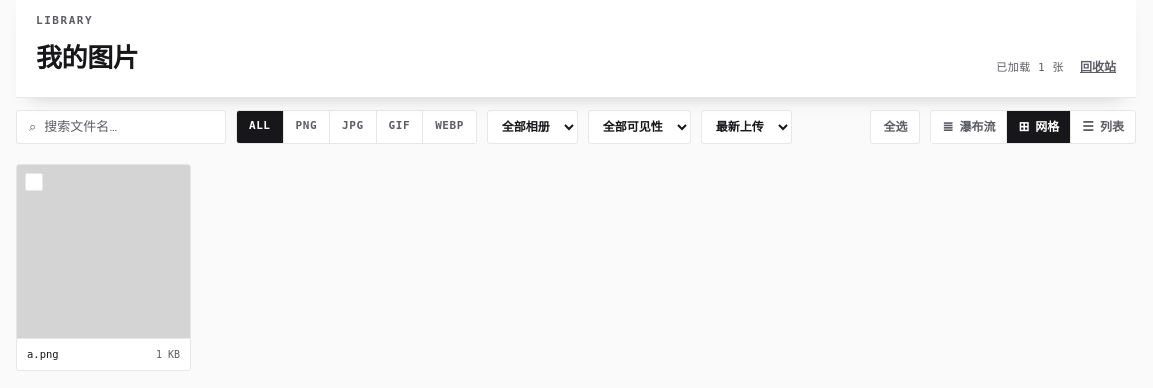
Scenario: 视图切换持久化 imgli-view
The width and height of the screenshot is (1153, 388).
Expected: the text "a.png" is shown, [27,348,59,360]
Click the button "☰ 列表": {"x": 1103, "y": 126} [1070,110,1135,142]
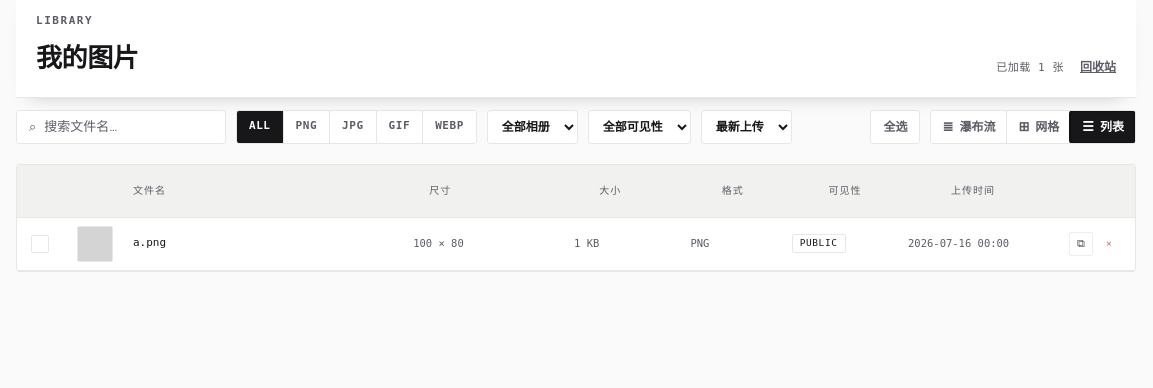
Now the text "文件名" is shown, box [133,185,166,196]
